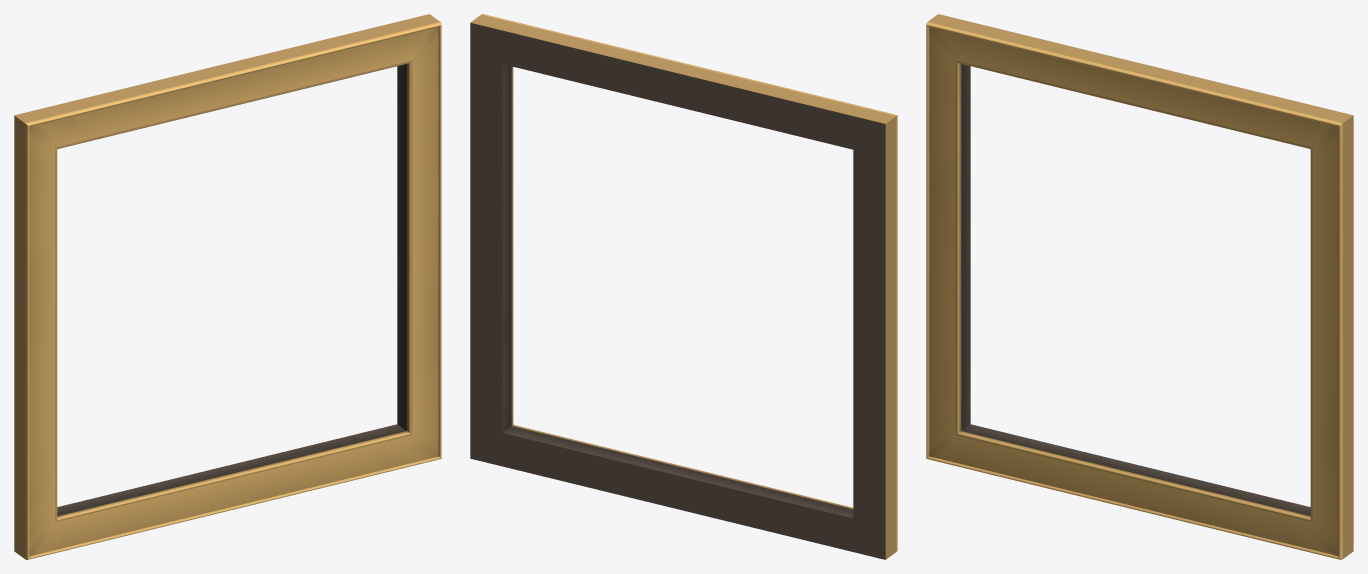
File: 13-potseluy.glb
The picture shows the model from 3 angles, left to right: view 1: azimuth 30°, elevation 25°; view 2: azimuth 150°, elevation 25°; view 3: azimuth 330°, elevation 25°; orthographic projection.
Parts seen in each view (by area): view 1: Frame; view 2: Frame; view 3: Frame.
Boxes of the visible parts, x1,y1,x2,y2 form: Frame: [14, 14, 441, 559]; Frame: [470, 14, 897, 559]; Frame: [926, 14, 1353, 559].
Bounding box in the file's own units: 1.16 × 1.16 × 0.0629.
